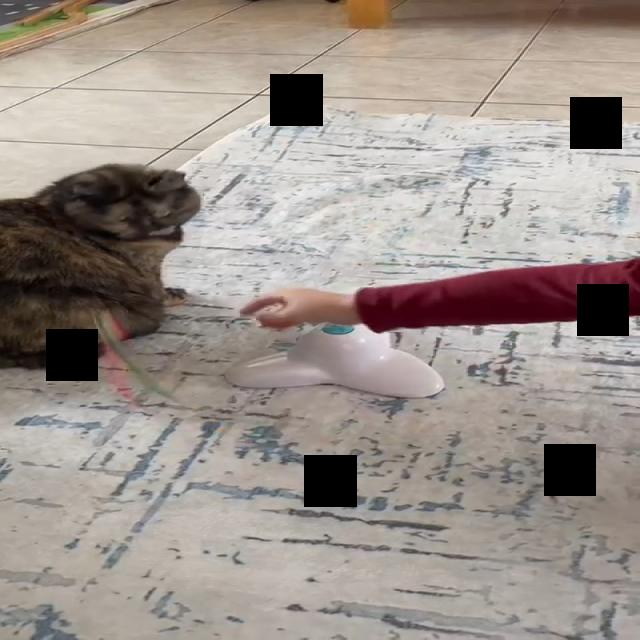authorized: (0, 161, 201, 370)
